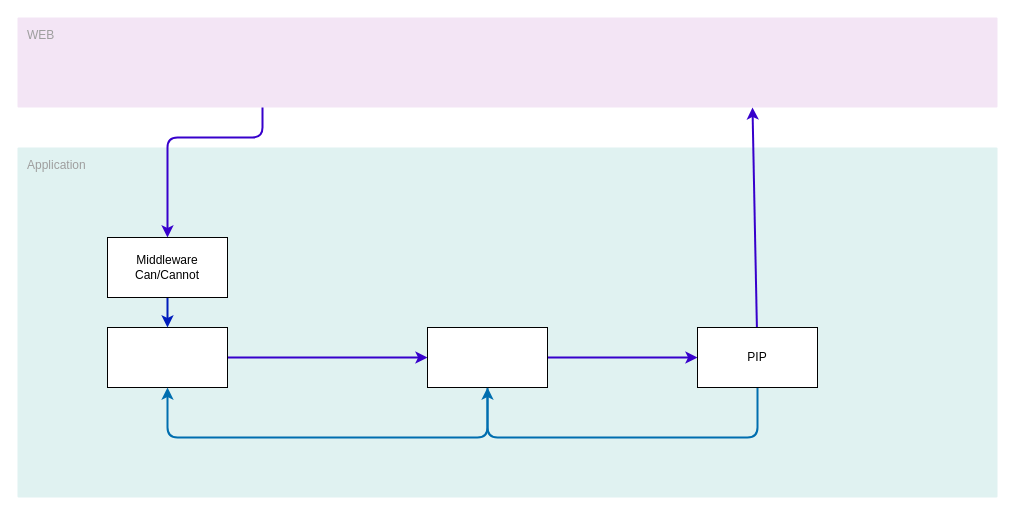
This 1014x514 diagram has some shape labels left out. Each missing label, with the centre of its shape:
"PDP" belongs at pixel 487 357.
"PEP" belongs at pixel 167 357.
